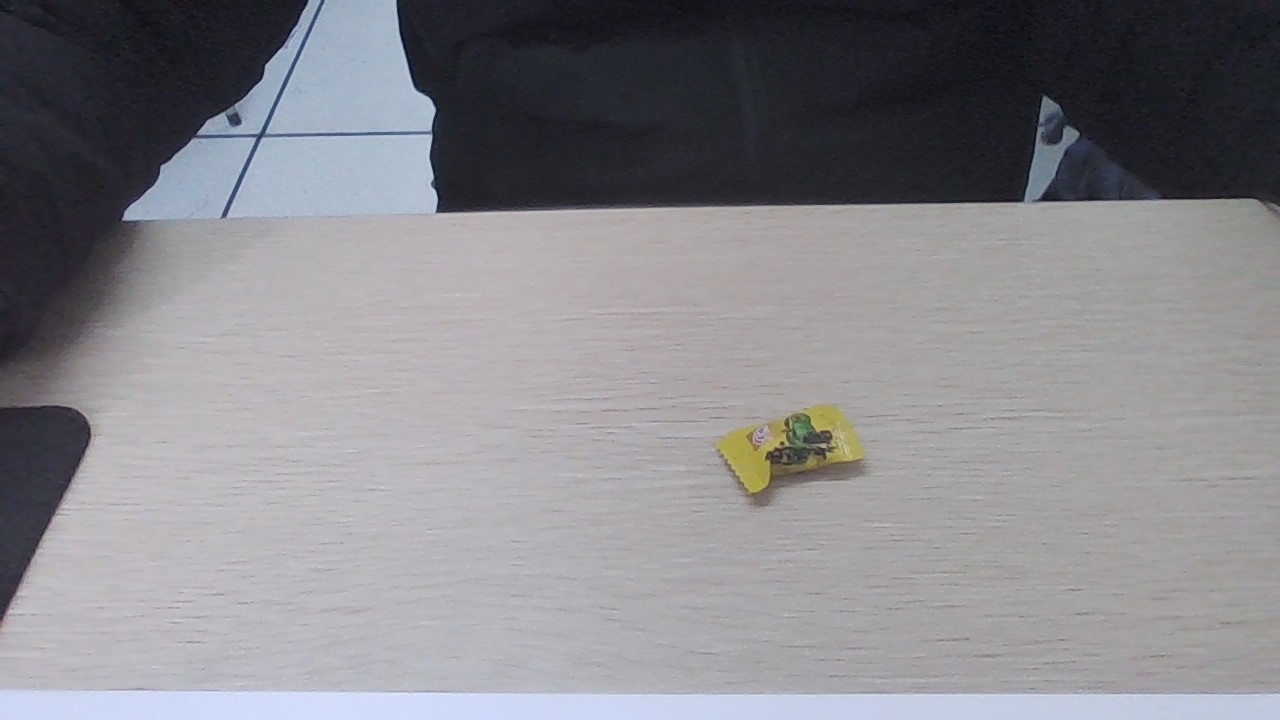CY-sugar: (722, 415, 860, 495)
